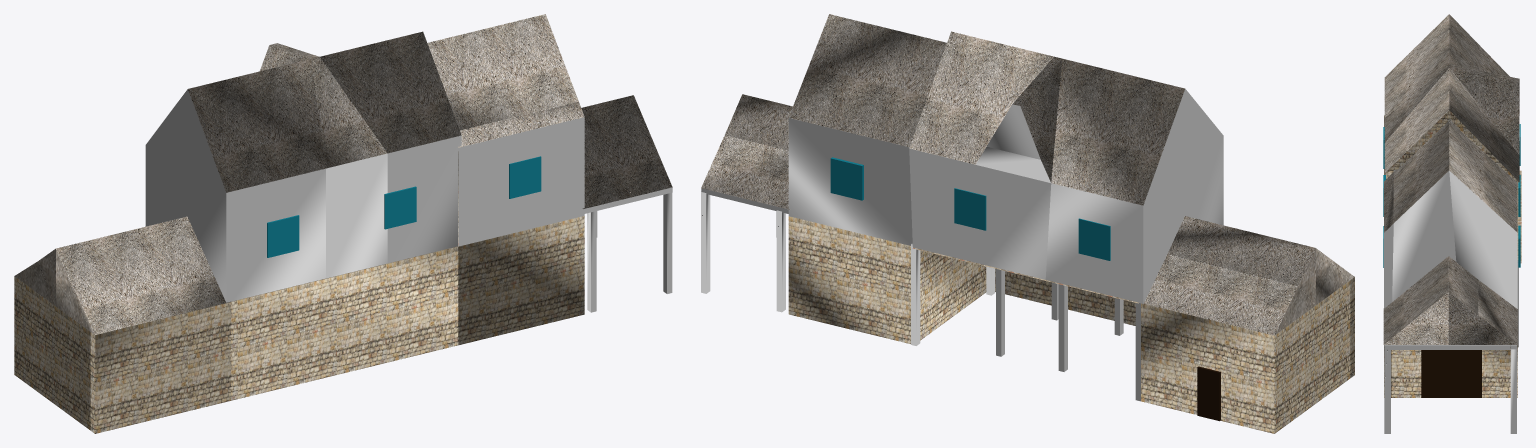
File: Ferme2.FBX
3 views of the same model, side by side, from view 1: azimuth 30°, elevation 25°; view 2: azimuth 150°, elevation 25°; view 3: azimuth 270°, elevation 25° (orthographic). The views are drawn at different scales.
Parts seen in each view (by area): view 1: Ferme2; view 2: Ferme2; view 3: Ferme2.
Part boxes in pixels (x1,y1,x2,y2): Ferme2: (14,14,672,433); Ferme2: (701,14,1354,433); Ferme2: (1383,14,1521,433).
Size of the model in its own units: 756 by 356 by 187.
